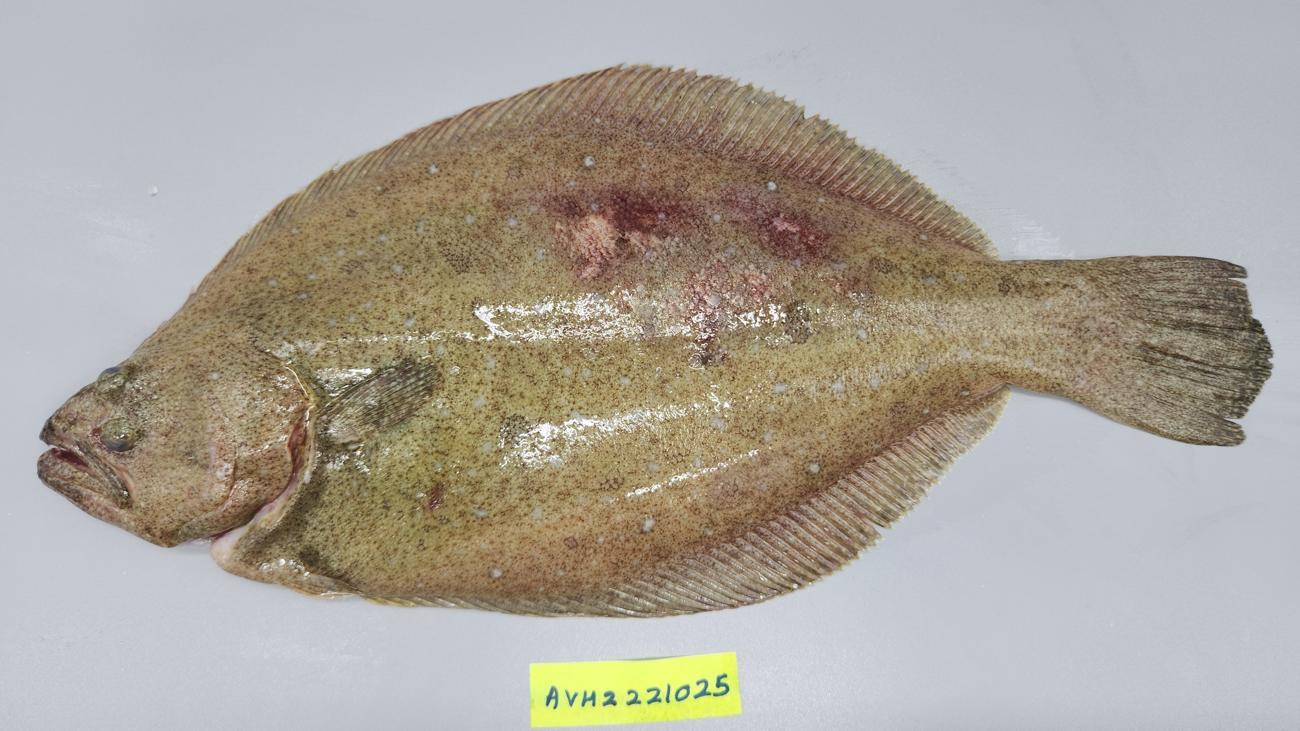VIDYU: (556, 211, 663, 280), (424, 479, 451, 506)
VIFCH: (1111, 257, 1250, 302)
VIOUY: (26, 53, 1272, 614)
